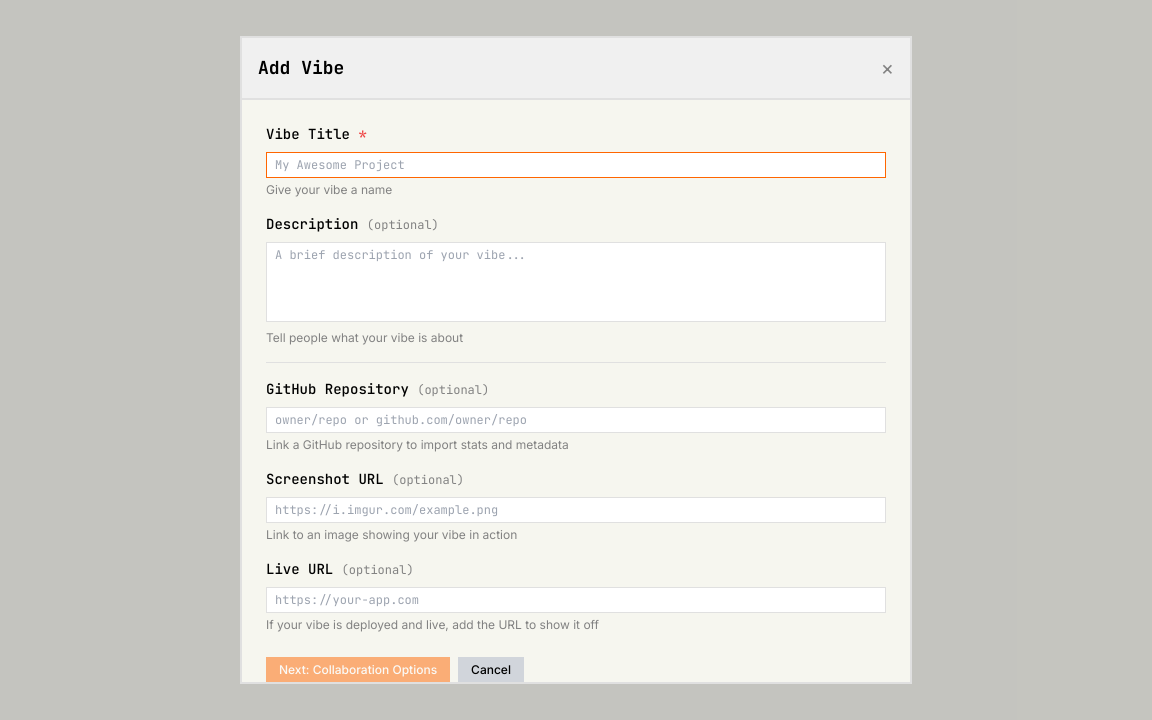
AddVibeModal › accepts valid owner/repo format
This screenshot has width=1152, height=720.
// Enter valid format
Type "facebook/react" into the field with placeholder "owner/repo or github.com/owner/repo". click: (576, 420)
box: [266,407,886,433]
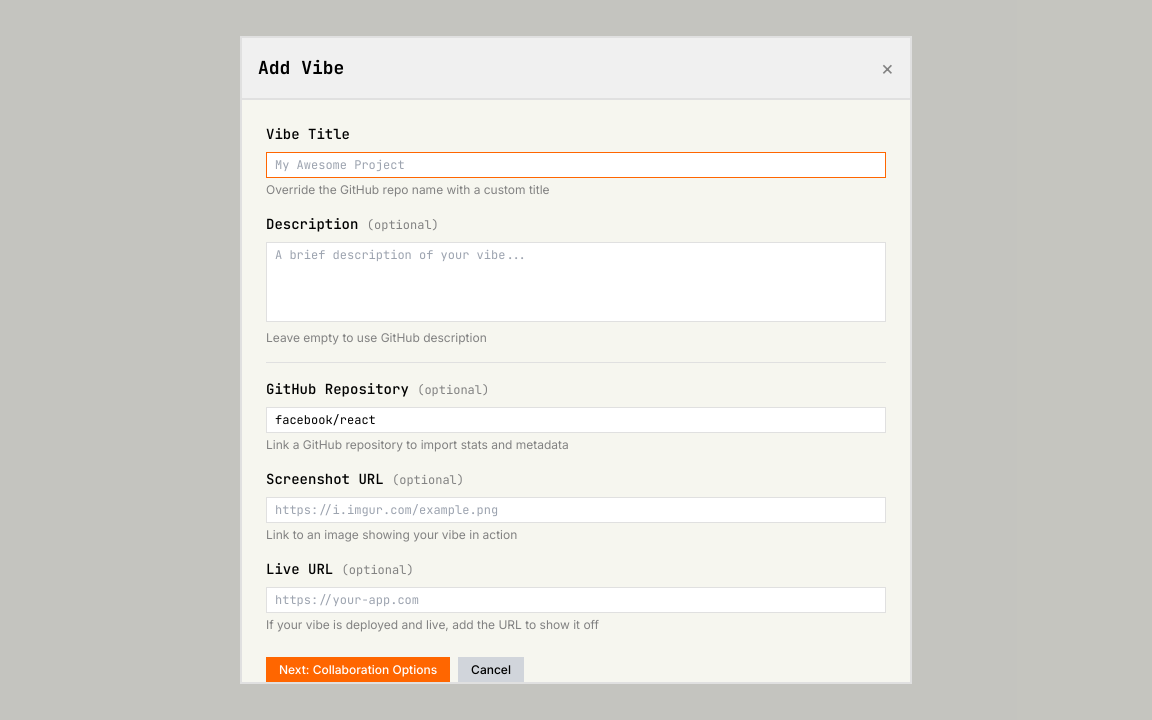
Click the button "Next: Collaboration Options". click: (358, 670)
box: [266,657,450,683]
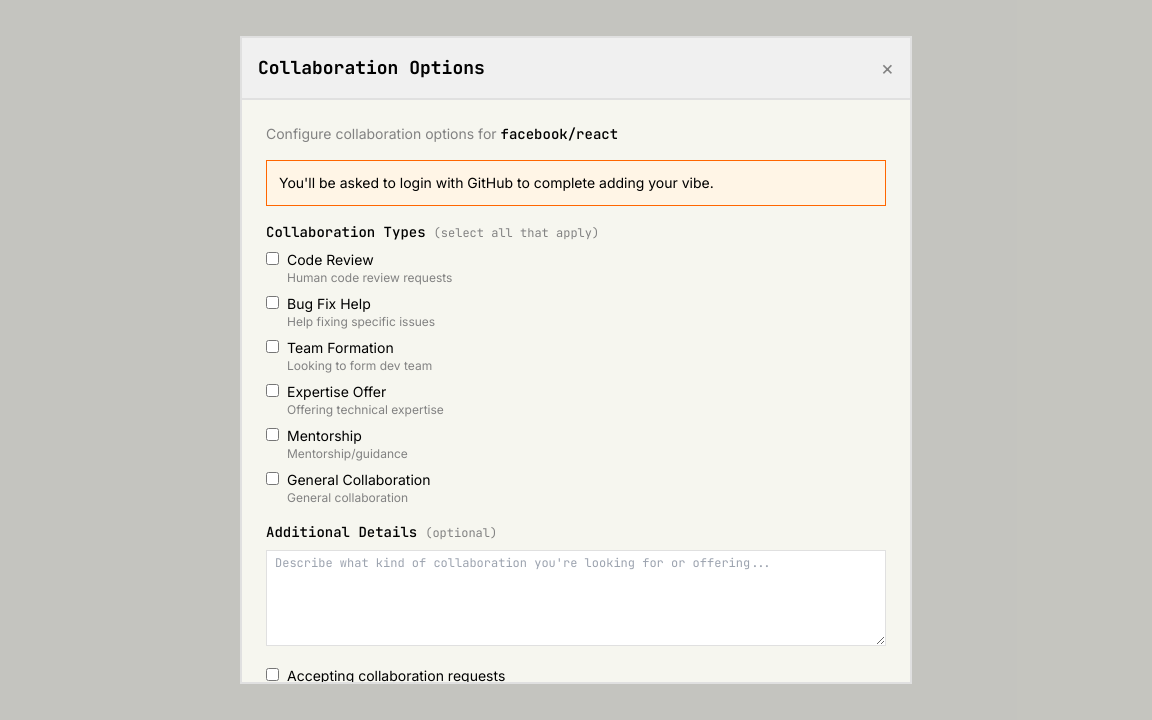
Now the heading "Collaboration Options" is shown, box [258,54,485,82]
